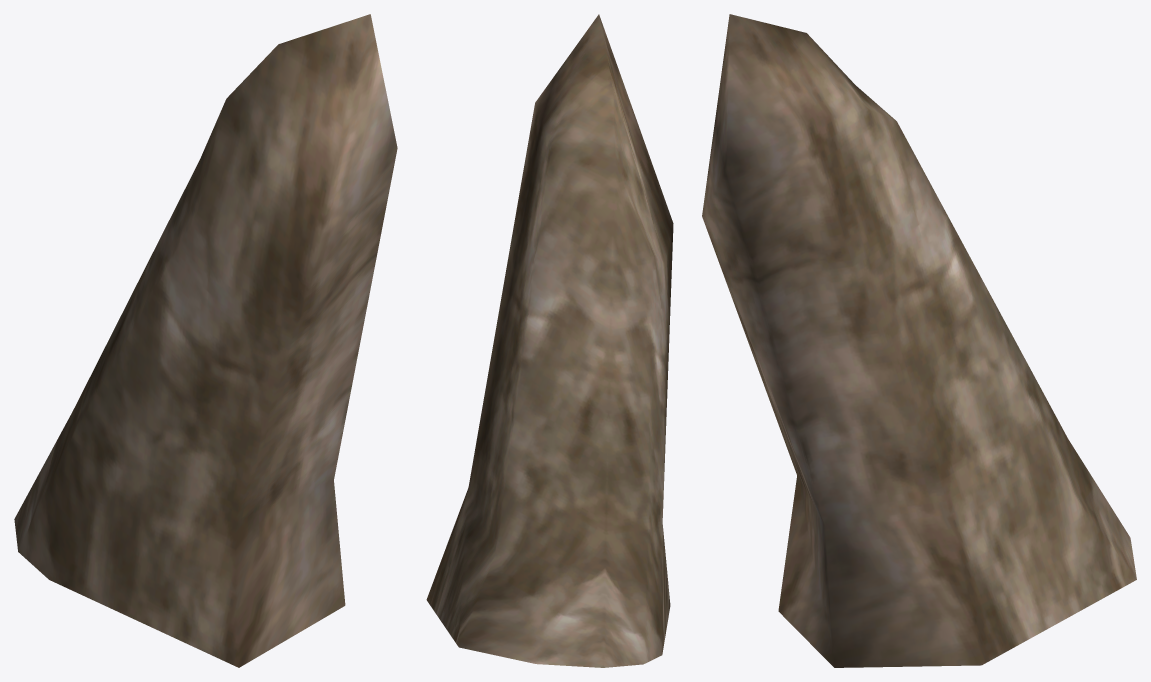
The model's file is OVERHILL_A_01_ROCK45.fbx.
3 renders of one model, left to right at view 1: azimuth 30°, elevation 25°; view 2: azimuth 150°, elevation 25°; view 3: azimuth 270°, elevation 25°, orthographic. The views are drawn at different scales.
Parts seen in each view (by area): view 1: OVERHILL_A_01_ROCK45; view 2: OVERHILL_A_01_ROCK45; view 3: OVERHILL_A_01_ROCK45.
Part boxes in pixels (x1=…): OVERHILL_A_01_ROCK45: x1=14, y1=14, x2=397, y2=667; OVERHILL_A_01_ROCK45: x1=426, y1=14, x2=673, y2=667; OVERHILL_A_01_ROCK45: x1=702, y1=14, x2=1136, y2=667.
Bounding box in the file's own units: 22592 × 50105 × 30380.
1 material, 1 textured.
